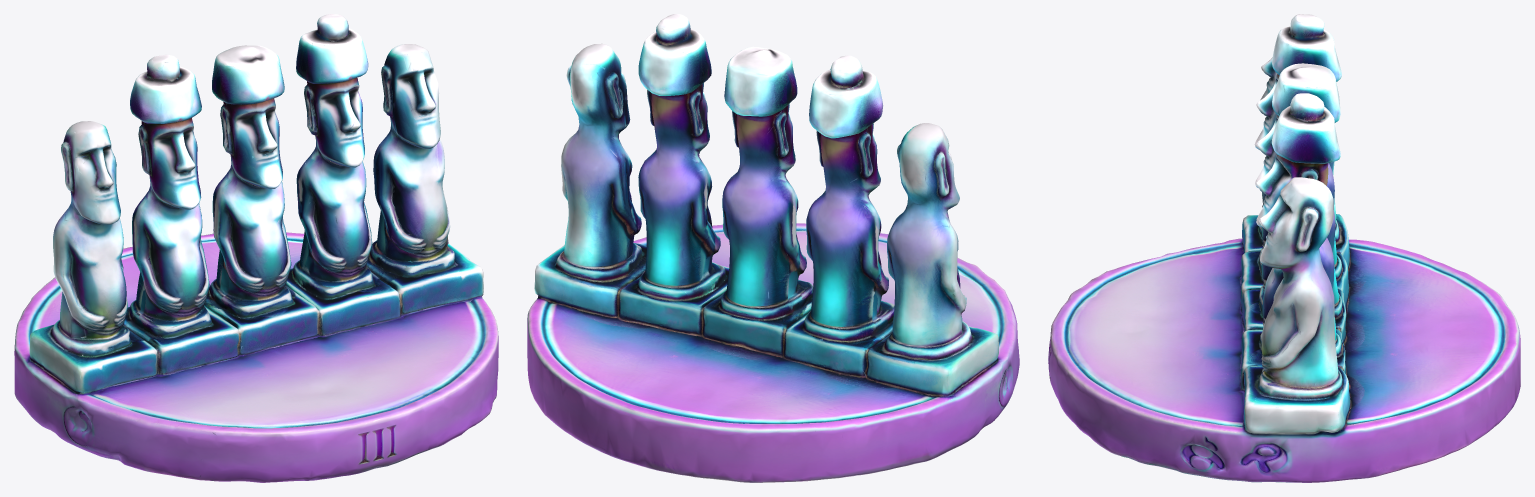
Rendered from easter_island_aurora.glb.
3 views of the same model, side by side, from view 1: azimuth 30°, elevation 25°; view 2: azimuth 150°, elevation 25°; view 3: azimuth 270°, elevation 25° (orthographic). The views are drawn at different scales.
Visible parts, largest first — view 1: Mesh_0; view 2: Mesh_0; view 3: Mesh_0.
Boxes of the visible parts, x1=… form: Mesh_0: x1=14, y1=14, x2=498, y2=482; Mesh_0: x1=527, y1=14, x2=1019, y2=482; Mesh_0: x1=1048, y1=14, x2=1520, y2=482.
Size of the model in its own units: 1.91 by 1.48 by 1.91.
Materials: 1 (1 with a texture image).
